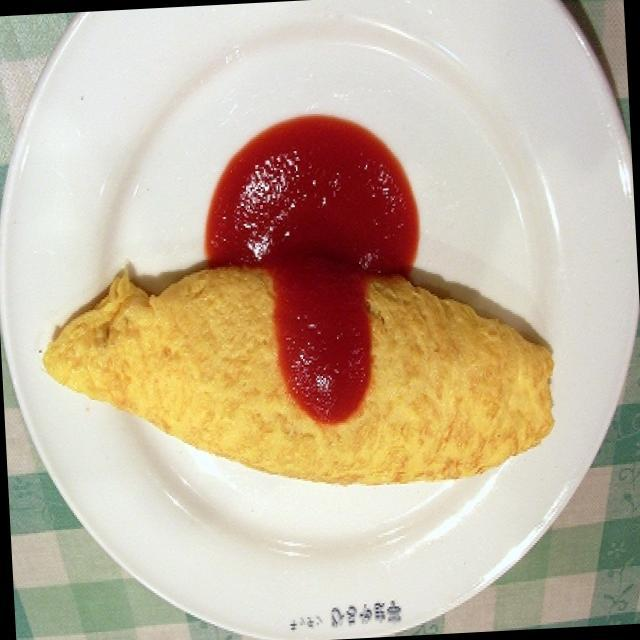Omelet: (34, 243, 572, 508)
